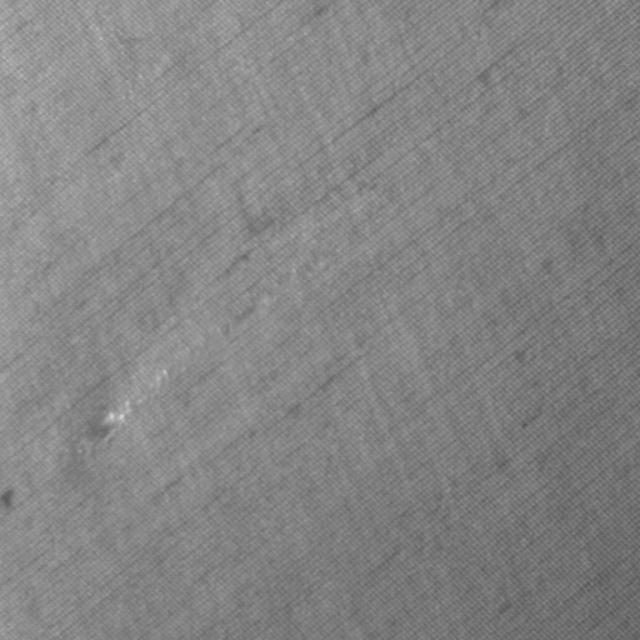thread error: (67, 245, 331, 466)
